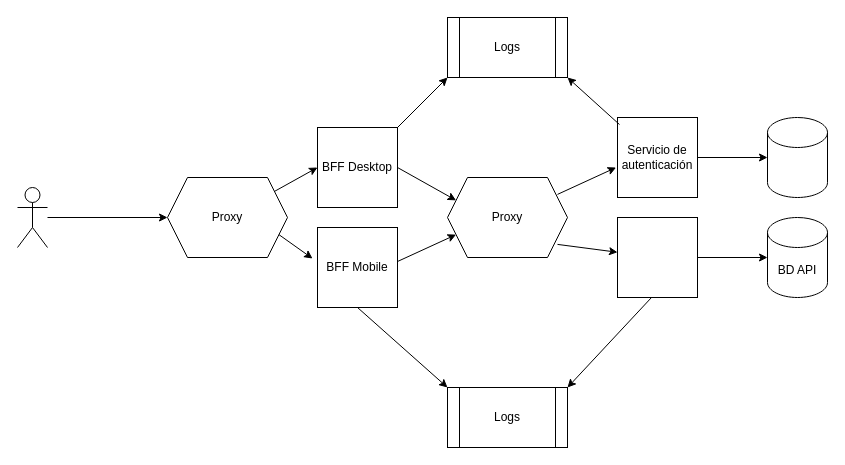
Image size: 845x465. Some labels were removed from this diagram. Here are the shapes that lost their labels. From the top down, the centre of each, then its label:
point 797,157: BD usuarios
point 32,217: Actor
point 657,257: Servicio API
